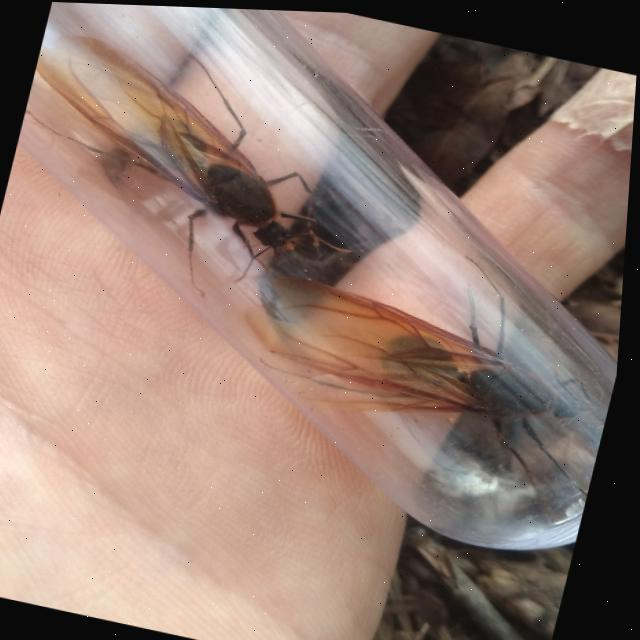Alive-Male-Alate: (213, 208, 629, 526), (0, 20, 395, 325)
